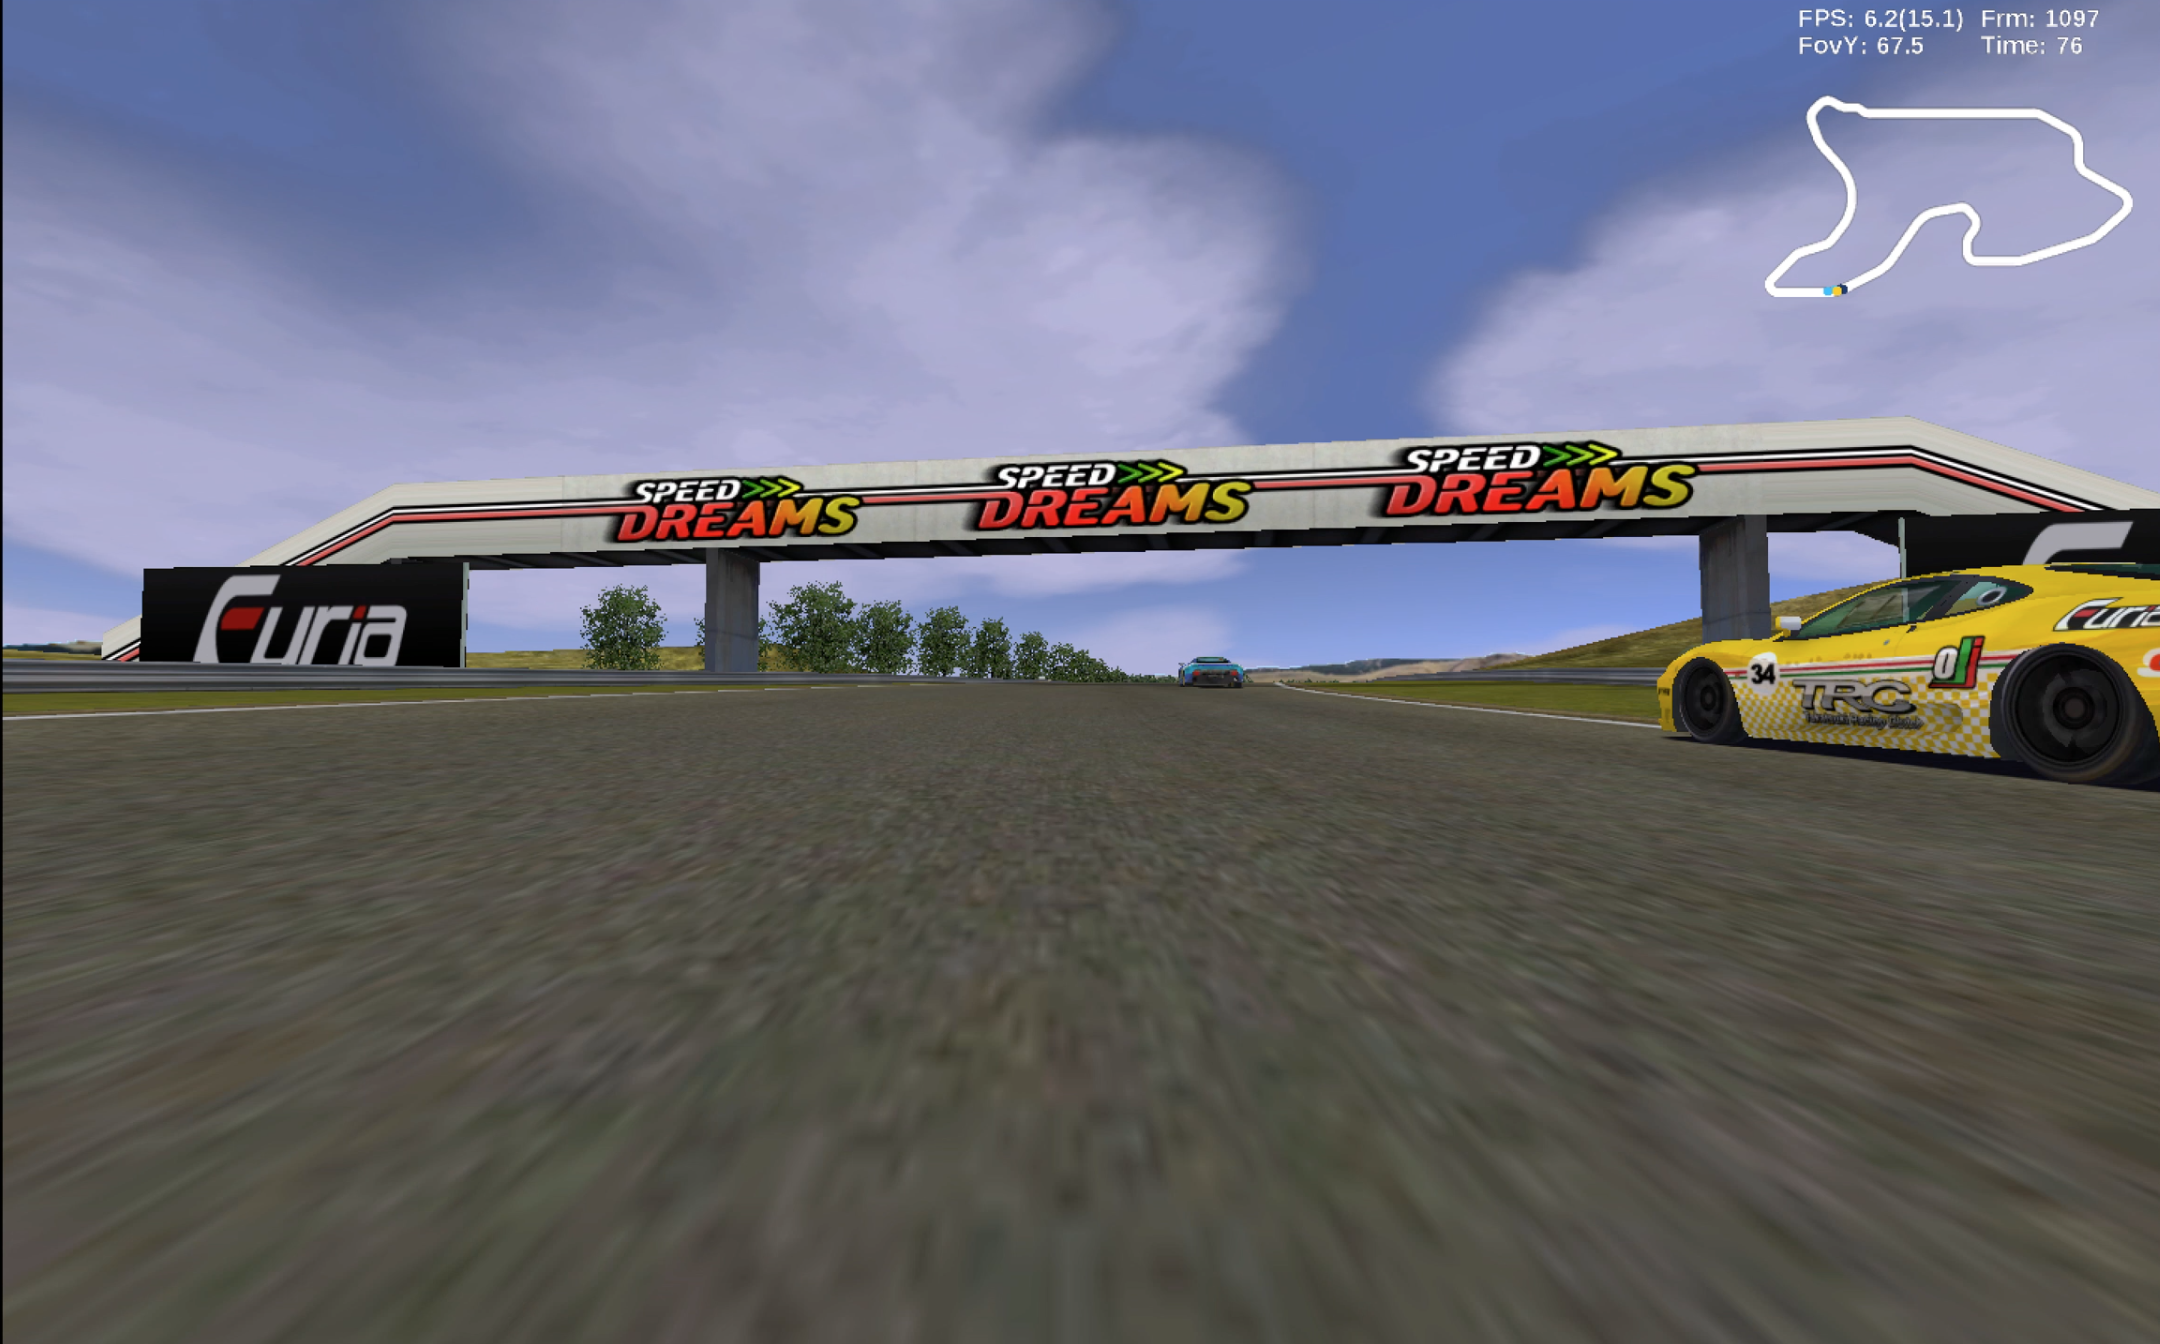Cavallo360: (1657, 561, 2160, 783)
Lynx220: (1177, 657, 1246, 691)
